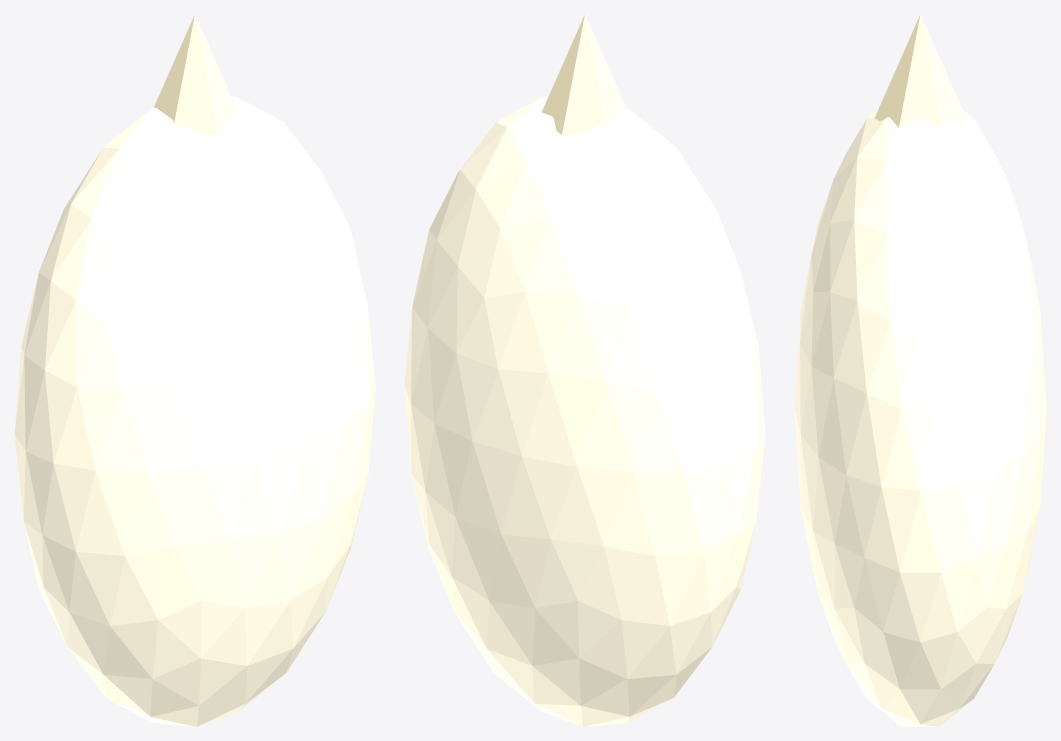
Rendered from halloween_seed.glb.
3 renders of one model, left to right at view 1: azimuth 30°, elevation 25°; view 2: azimuth 150°, elevation 25°; view 3: azimuth 270°, elevation 25°, orthographic.
Parts seen in each view (by area): view 1: PumpkinSeed; view 2: PumpkinSeed; view 3: PumpkinSeed.
Part boxes in pixels (x1,y1,x2,y2): PumpkinSeed: (14,14,375,726); PumpkinSeed: (404,14,765,726); PumpkinSeed: (794,14,1046,726).
Size of the model in its own units: 0.68 by 1.36 by 0.44.
